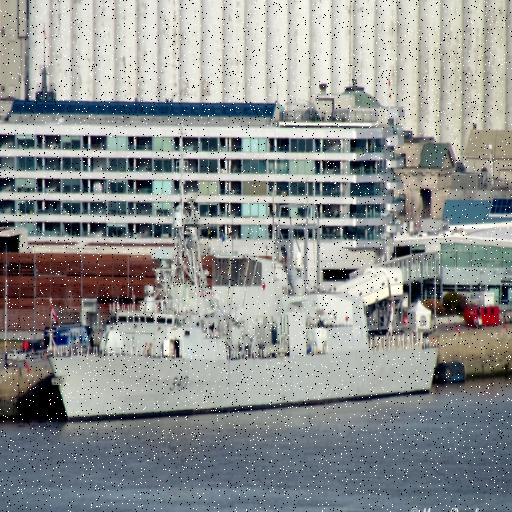Fragata: (44, 177, 443, 428)
